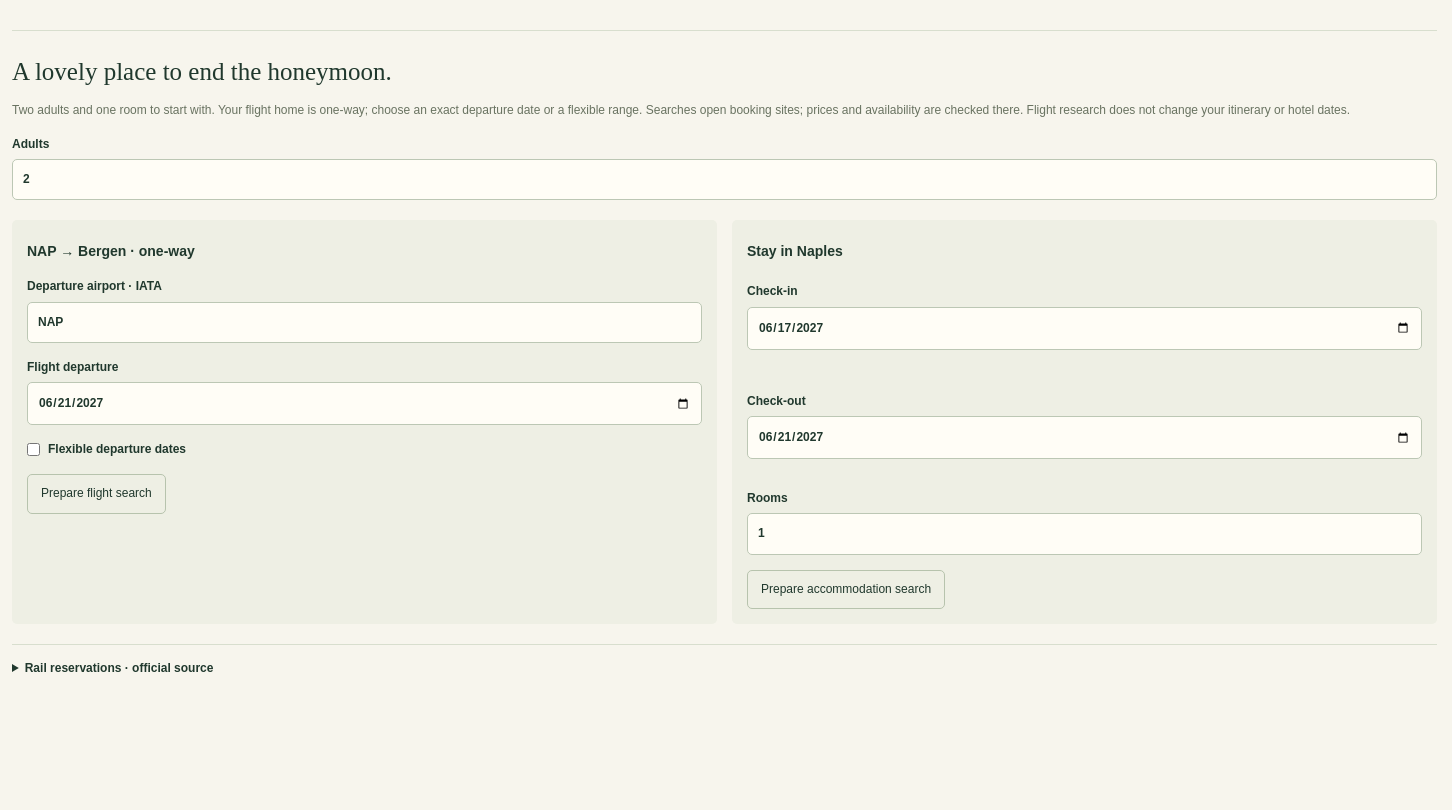
Test: labels external searches and removes the old search link when dates change
This screenshot has width=1452, height=810.
Click the button "Prepare flight search".
click(96, 494)  # box [27,474,166,514]
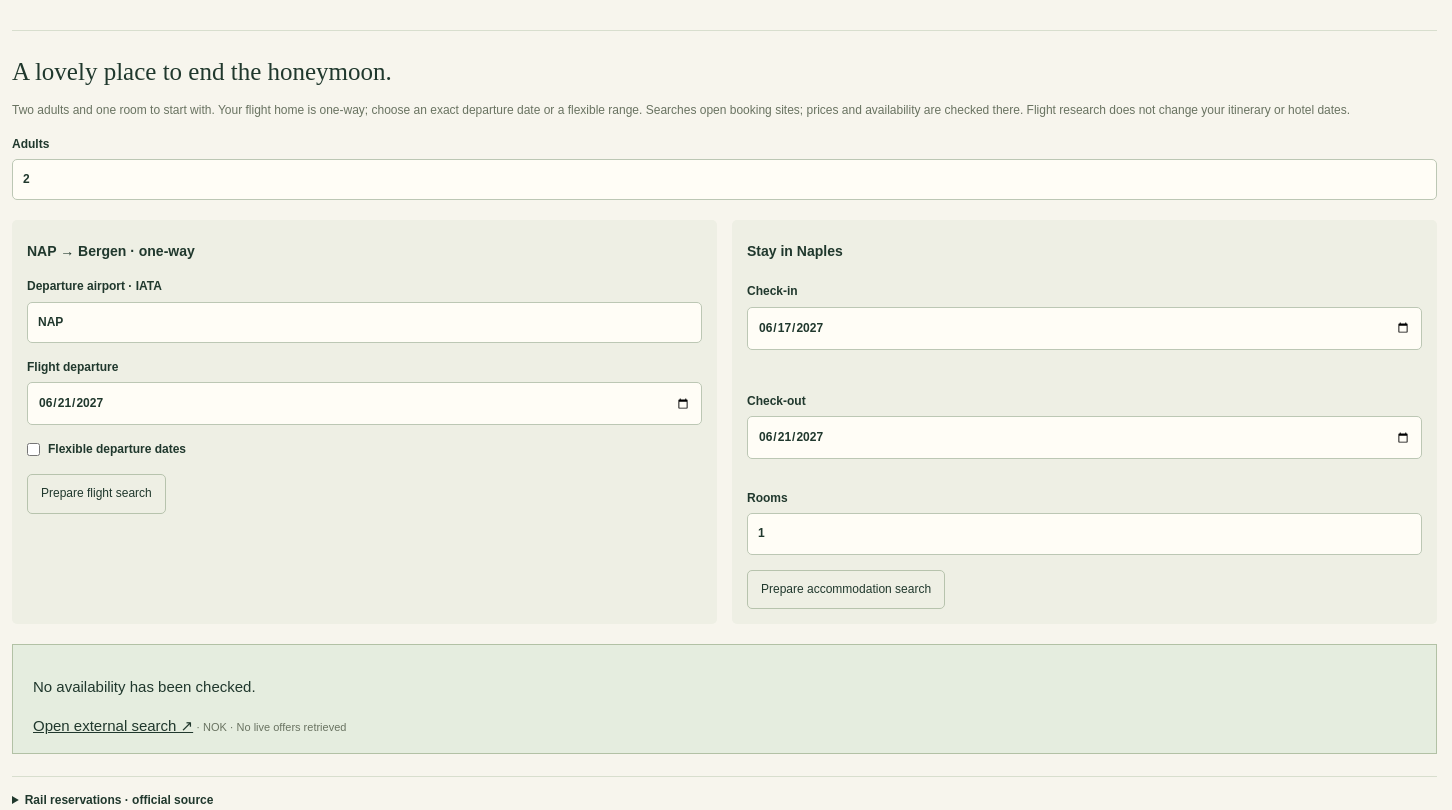
Now the text "· NOK · No live offers retrieved" is shown, box [193,721,346,733]
Type "2027-06-22" into the date field labelled "Flight departure".
click(364, 404); type("2027-06-22")  # box [27,382,702,425]
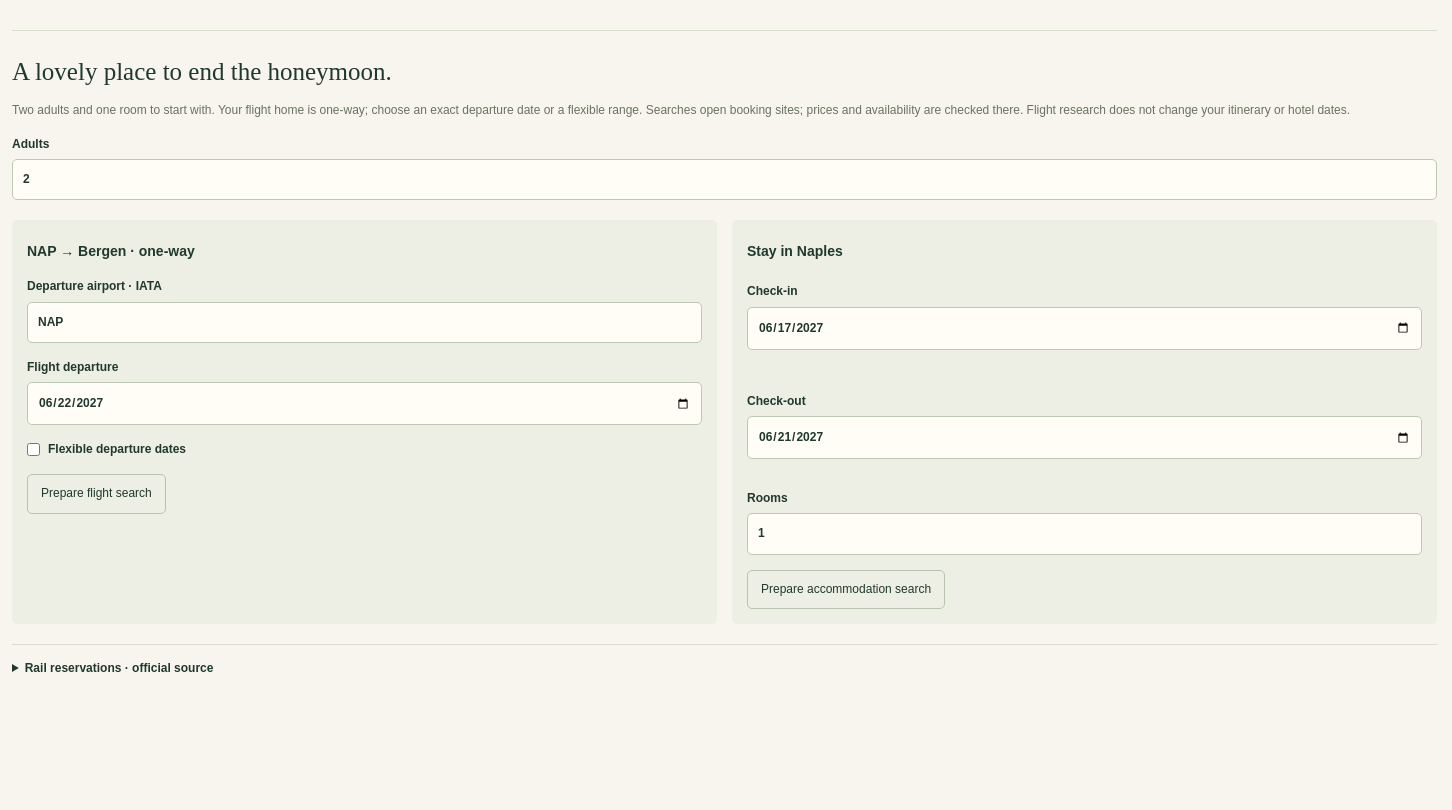
Now the link "Open external search" is gone
